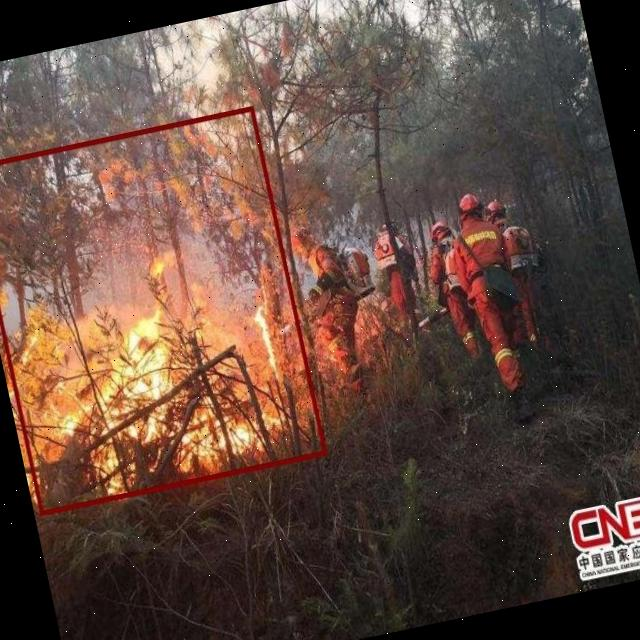fire: (0, 105, 326, 514)
